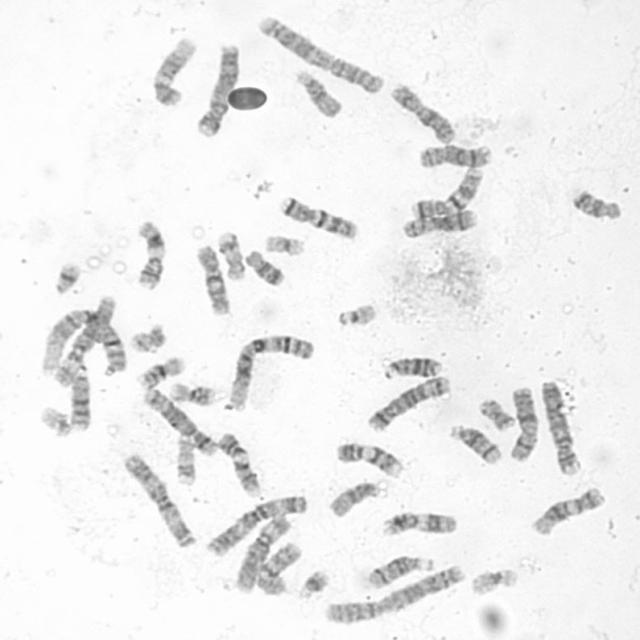A1: (224, 330, 316, 413), (38, 306, 128, 381)
A2: (256, 12, 386, 96), (320, 560, 467, 626)
A3: (121, 450, 197, 550), (204, 492, 310, 558)
B4: (192, 40, 242, 140), (538, 376, 583, 476)
B5: (140, 384, 218, 457), (364, 372, 452, 433)
C10: (193, 241, 232, 318), (252, 539, 303, 596)
C11: (131, 218, 167, 292), (378, 509, 459, 538)
C12: (528, 484, 608, 537), (148, 34, 198, 108)
C6: (49, 292, 118, 391), (230, 511, 293, 595)
C7: (408, 163, 486, 220), (276, 192, 360, 240)
C8: (398, 206, 479, 240), (414, 140, 494, 170)
C9: (215, 429, 262, 498), (332, 438, 405, 479)
D13: (66, 368, 93, 432), (381, 353, 442, 380)
D14: (363, 552, 434, 590), (446, 421, 504, 466)
D15: (294, 68, 344, 119), (325, 478, 382, 518)
E16: (132, 352, 187, 390), (167, 378, 218, 407)
E17: (215, 228, 246, 281), (172, 432, 198, 486)
E18: (568, 185, 622, 222), (243, 245, 287, 288)
F19: (468, 565, 520, 598), (262, 231, 306, 257)
F20: (127, 320, 168, 354), (478, 399, 518, 432)
G21: (294, 566, 332, 600), (49, 259, 83, 296)
G22: (334, 300, 378, 328), (39, 403, 73, 438)
X: (386, 80, 458, 146), (505, 384, 540, 463)
